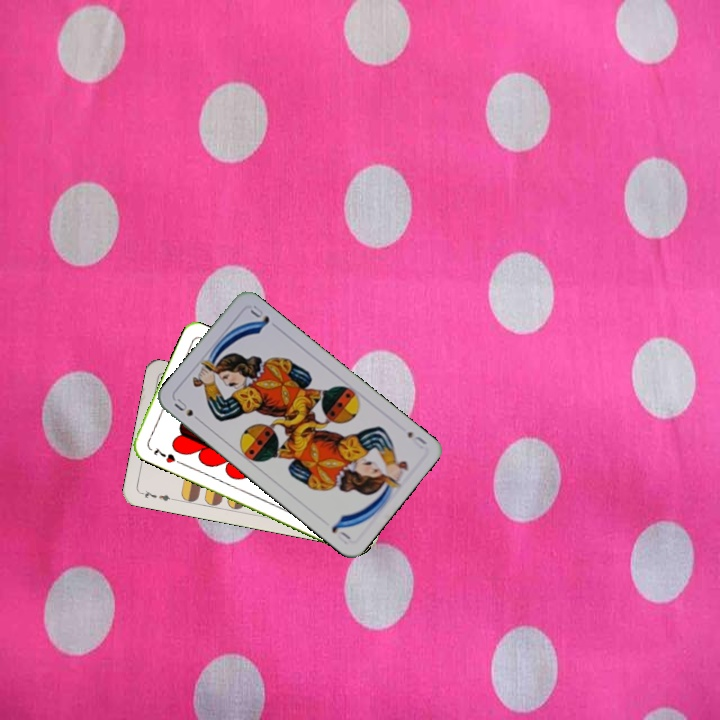E7: (137, 487, 177, 504)
H7: (150, 443, 184, 467)
SU: (170, 394, 205, 425), (403, 427, 429, 451)
